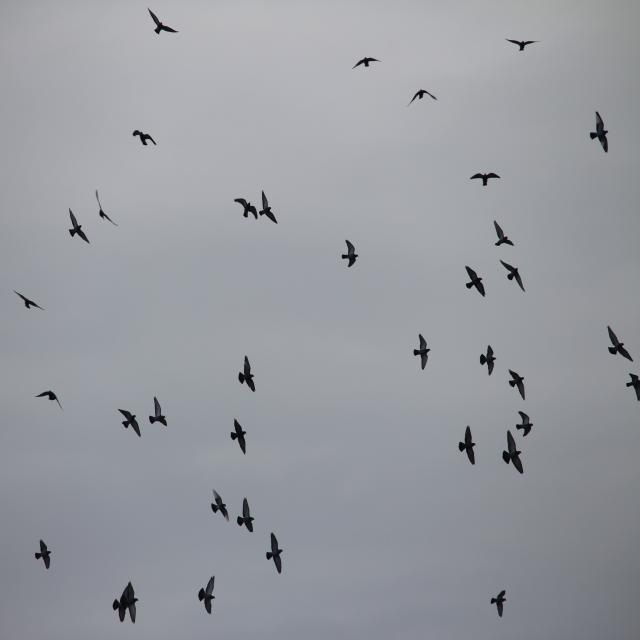bird: (115, 584, 142, 626), (606, 324, 633, 362), (147, 7, 180, 37), (501, 434, 525, 474), (95, 188, 117, 230), (591, 112, 612, 154), (490, 217, 516, 249), (68, 207, 90, 244), (258, 190, 280, 226), (463, 264, 486, 298), (502, 260, 526, 292), (460, 426, 479, 466), (265, 534, 284, 574), (199, 578, 219, 616), (239, 355, 258, 393), (236, 497, 255, 535), (229, 418, 249, 454), (119, 408, 142, 438), (416, 334, 434, 372), (480, 343, 499, 378), (508, 368, 528, 401), (13, 290, 43, 312), (211, 486, 230, 520), (470, 170, 502, 190), (515, 408, 535, 440), (150, 396, 169, 429), (235, 196, 259, 222), (409, 86, 439, 106), (36, 390, 63, 412), (352, 52, 382, 71), (489, 589, 507, 620), (342, 241, 360, 270), (133, 130, 159, 150), (37, 540, 54, 570), (506, 36, 537, 52), (626, 371, 640, 406)
